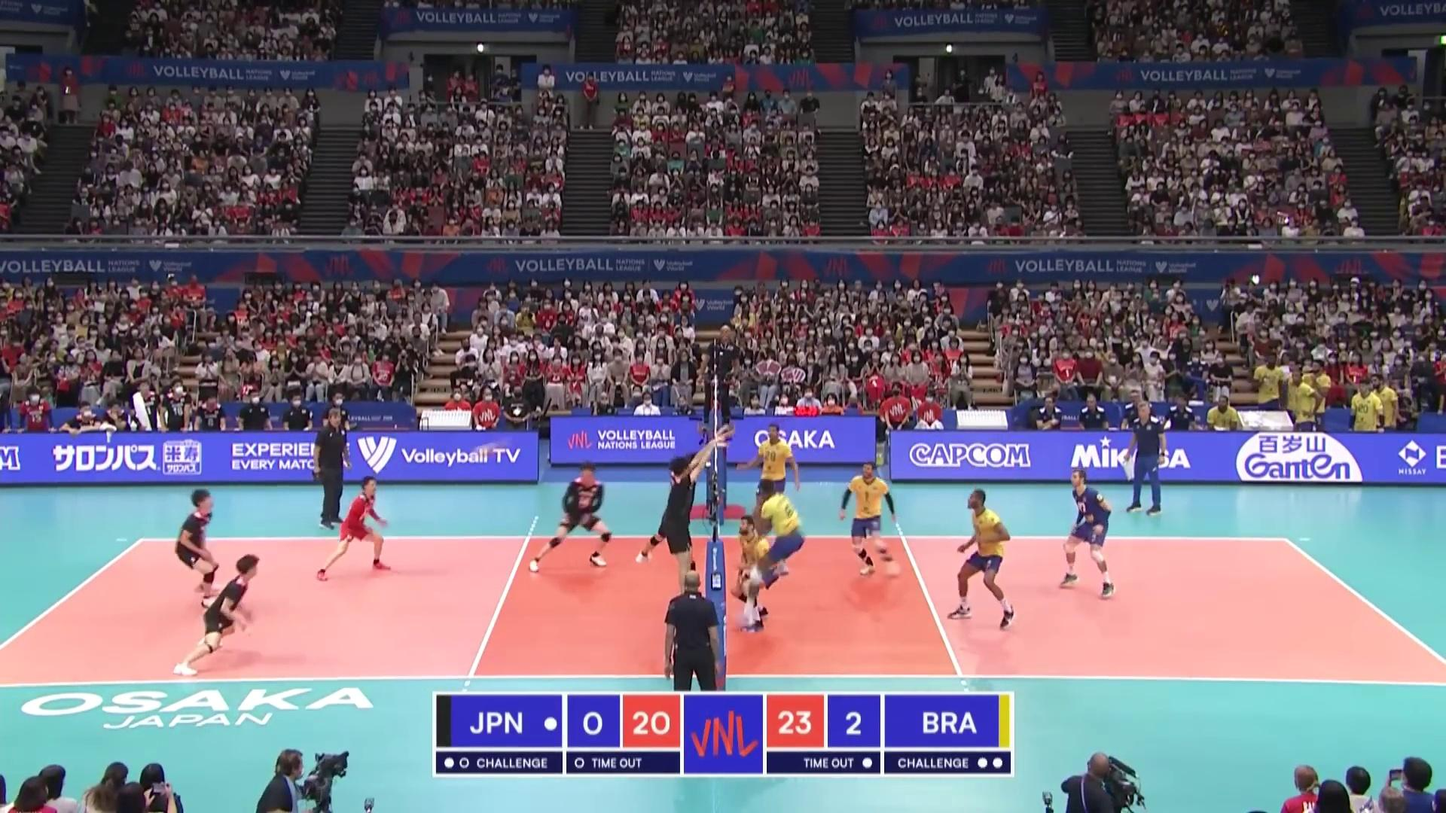player: (178, 554, 261, 675), (522, 462, 612, 571), (635, 448, 707, 579), (948, 491, 1016, 628), (748, 482, 807, 627), (838, 462, 900, 584), (317, 475, 390, 576), (662, 455, 709, 604), (1061, 470, 1115, 596), (751, 423, 798, 542), (734, 516, 777, 633), (173, 493, 217, 592)
refree: (663, 572, 724, 695), (704, 326, 738, 436)
